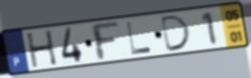1: (200, 11, 220, 46)
4: (60, 26, 84, 65)
D: (160, 14, 194, 54)
F: (88, 21, 122, 63)
H: (24, 29, 59, 70)
L: (125, 21, 154, 56)
